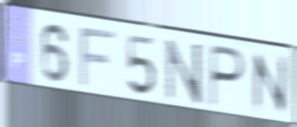5: (125, 32, 158, 98)
6: (39, 22, 72, 85)
F: (76, 26, 120, 90)
N: (163, 36, 204, 106), (250, 49, 291, 117)
P: (207, 41, 248, 111)
